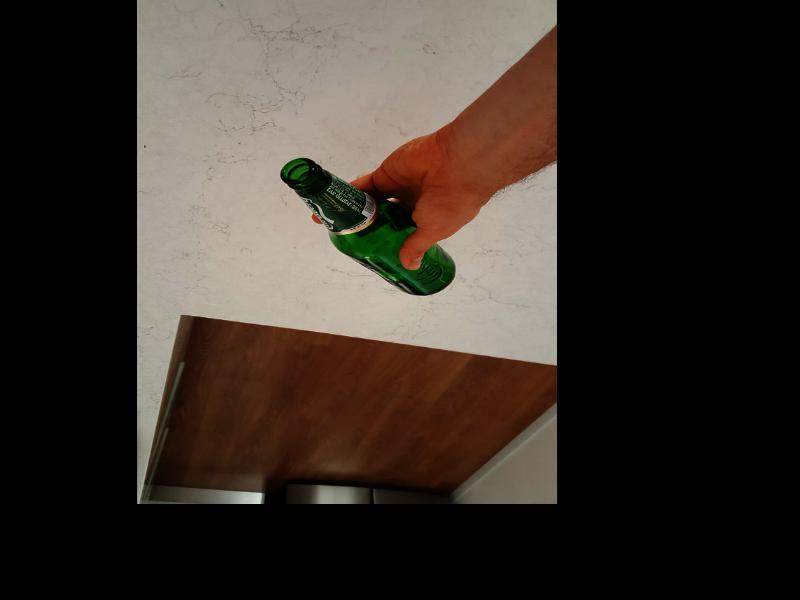Beer: (278, 155, 454, 295)
